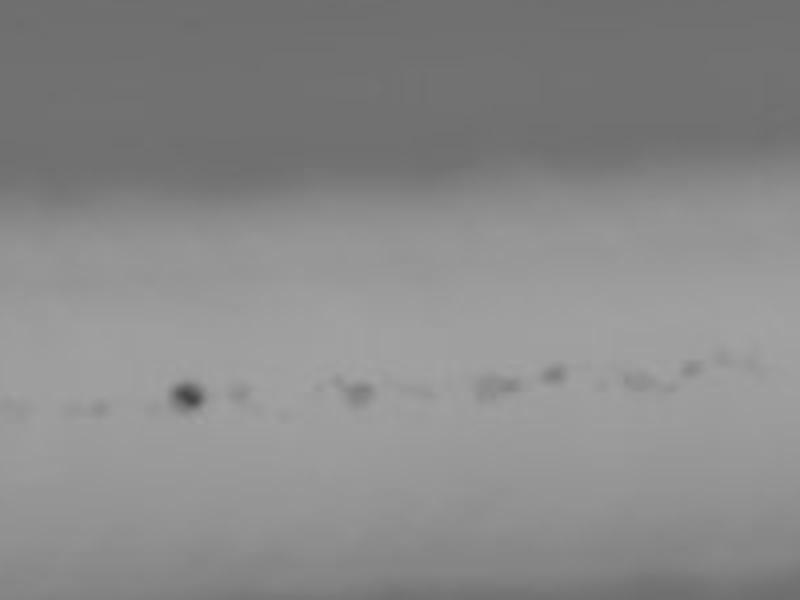defect: (474, 367, 523, 414), (389, 378, 440, 403), (170, 379, 204, 414), (623, 364, 663, 392), (538, 362, 569, 387), (5, 399, 29, 430), (63, 394, 87, 420), (350, 383, 373, 410), (274, 407, 305, 425), (680, 358, 709, 377), (230, 380, 253, 402), (143, 394, 167, 414), (592, 375, 612, 396), (711, 345, 731, 366), (252, 401, 271, 421), (92, 400, 109, 421), (329, 368, 344, 390), (310, 379, 327, 398), (664, 379, 678, 399)
